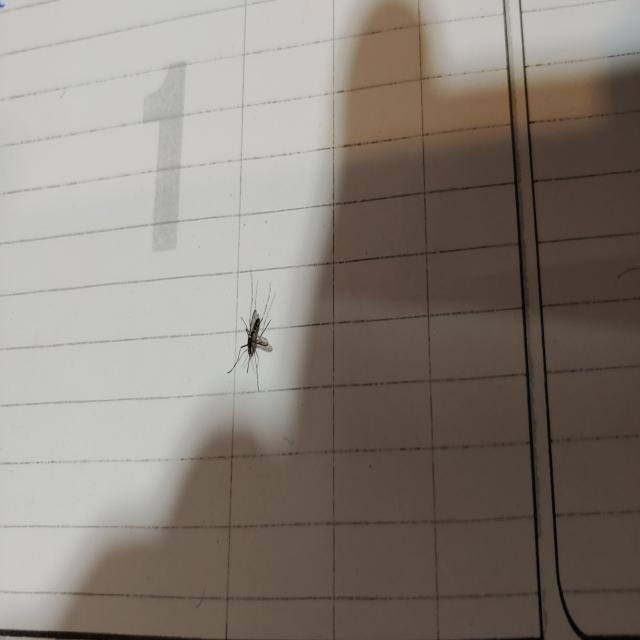albopictus: (223, 266, 280, 394)
